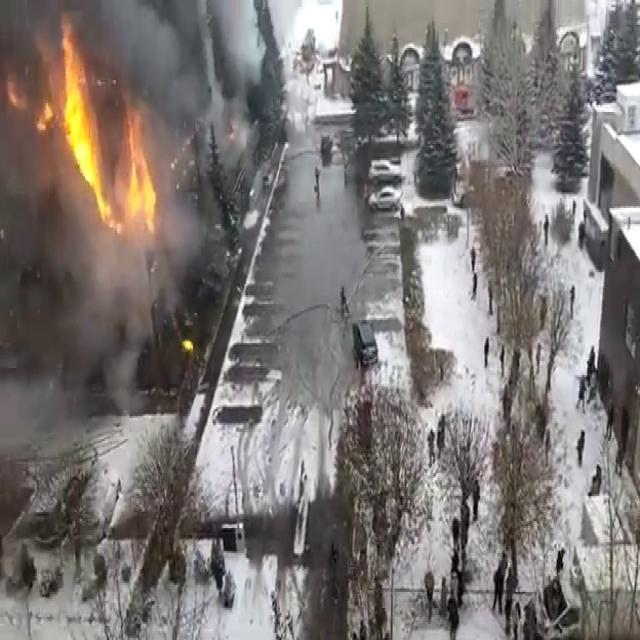Fire: (43, 28, 162, 239)
Smoke: (0, 0, 244, 418)
